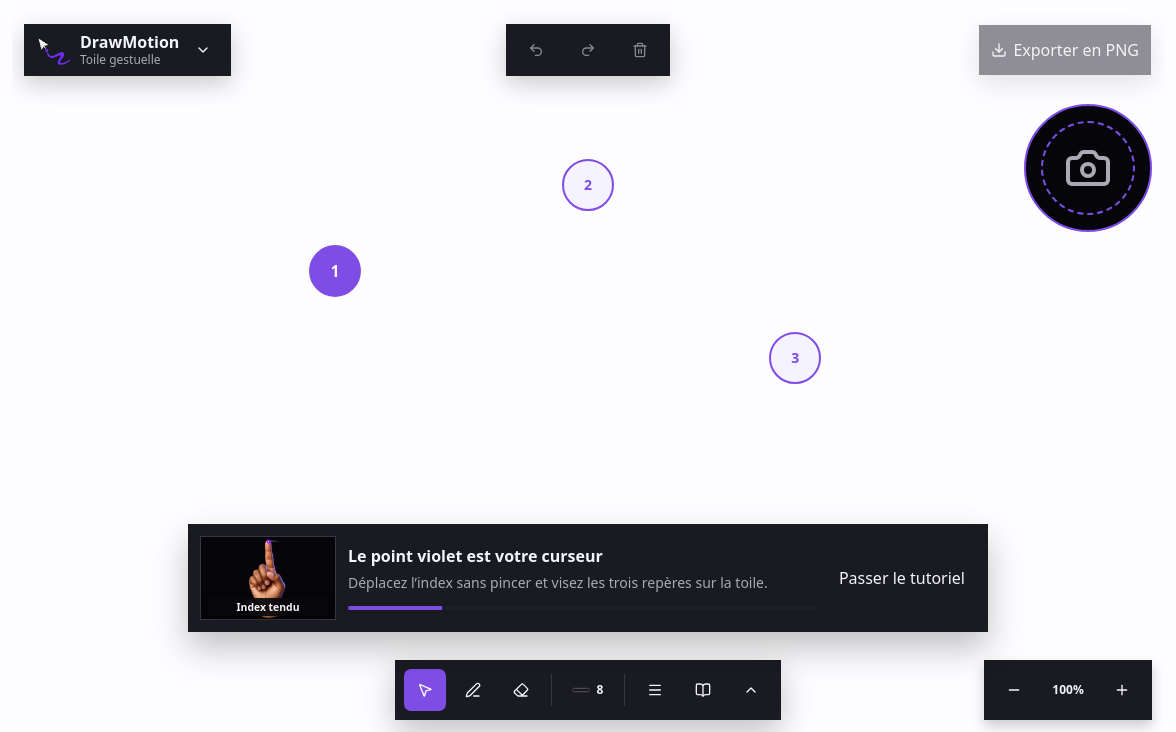
Scenario: WorkspaceShell › supports skipping and replaying the tutorial
What coordinates should you click on to do the following:
click the button "Passer le tutoriel"
I would click on:
 (902, 578)
Its box is [828, 558, 976, 598].
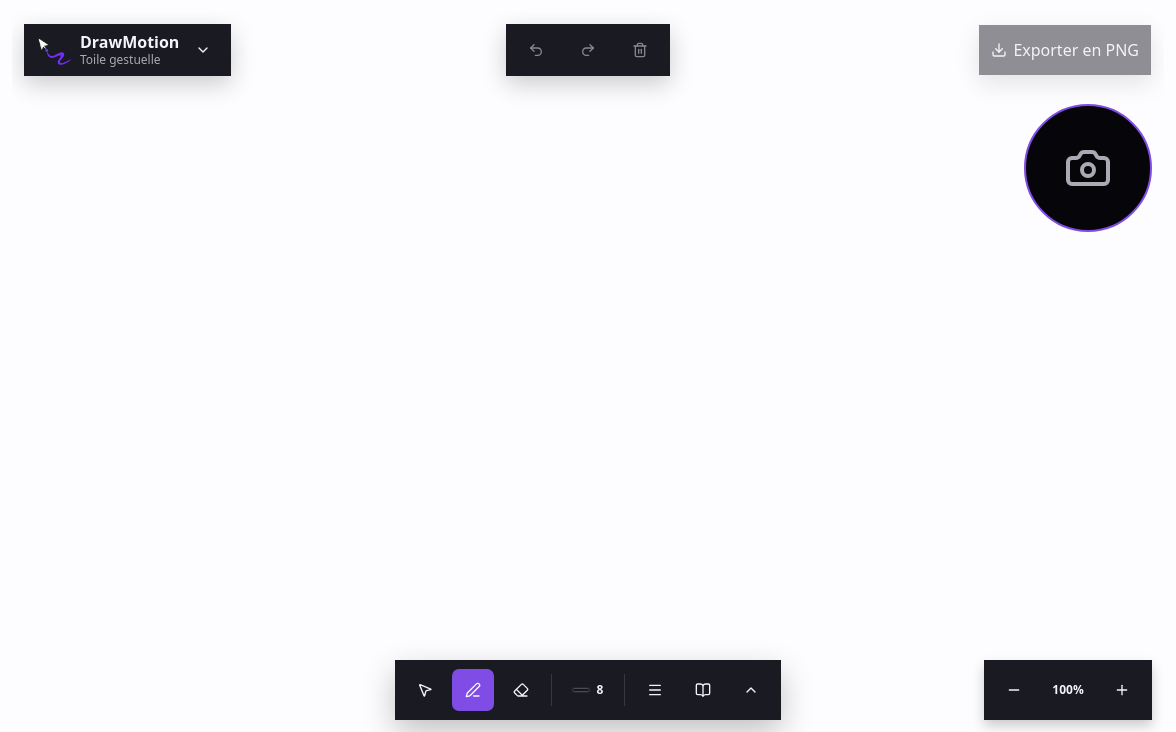
Now the heading "Le point violet est votre curseur" is gone
What coordinates should you click on to do the following:
click the button named "Revoir le tutoriel"
I would click on:
 (703, 690)
Its box is [681, 668, 725, 712].
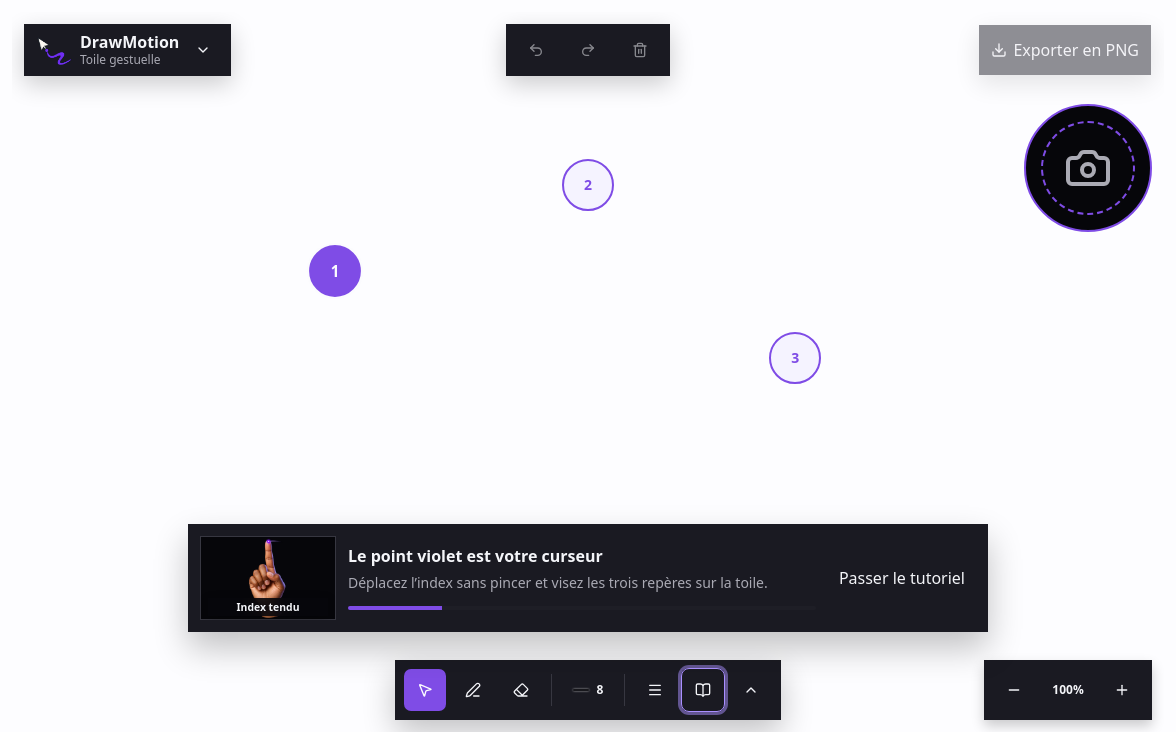
Now the heading "Le point violet est votre curseur" is shown, box [348, 545, 603, 567]
